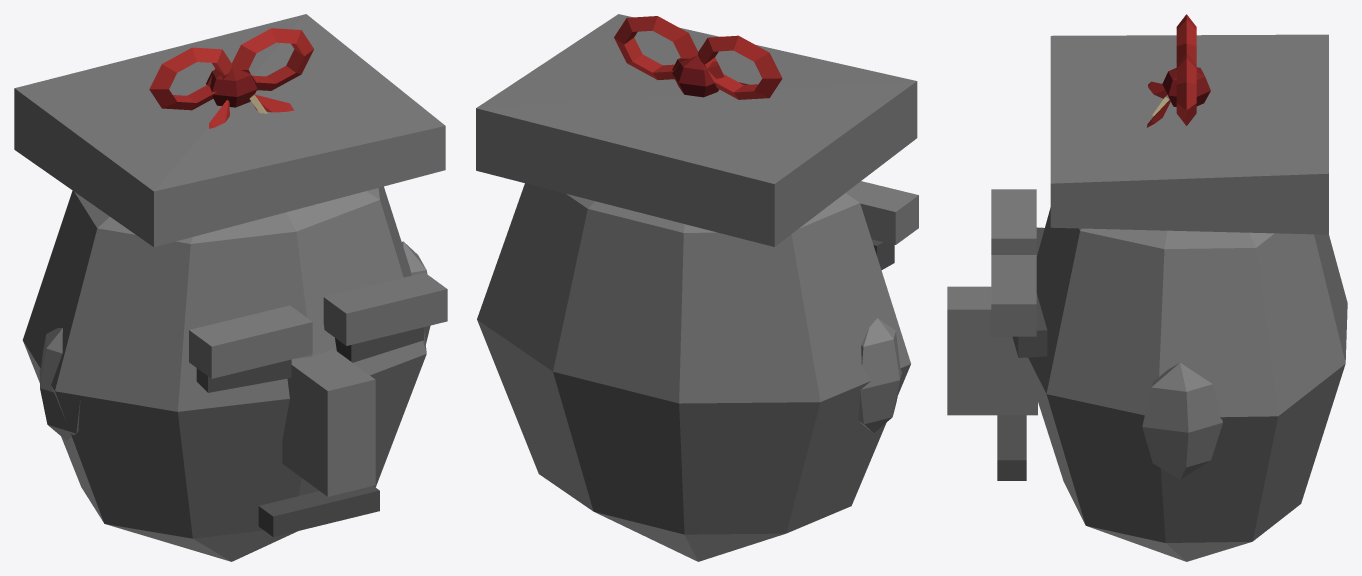
Rendered from quest_statue_head.glb.
3 renders of one model, left to right at view 1: azimuth 30°, elevation 25°; view 2: azimuth 150°, elevation 25°; view 3: azimuth 270°, elevation 25°, orthographic. The views are drawn at different scales.
Visible parts, largest first — view 1: quest_statue_head; view 2: quest_statue_head; view 3: quest_statue_head.
Boxes of the visible parts, x1=… form: quest_statue_head: x1=14, y1=14, x2=447, y2=561; quest_statue_head: x1=476, y1=14, x2=918, y2=561; quest_statue_head: x1=947, y1=14, x2=1347, y2=561.
Bounding box in the file's own units: 0.3518 × 0.4556 × 0.316.
